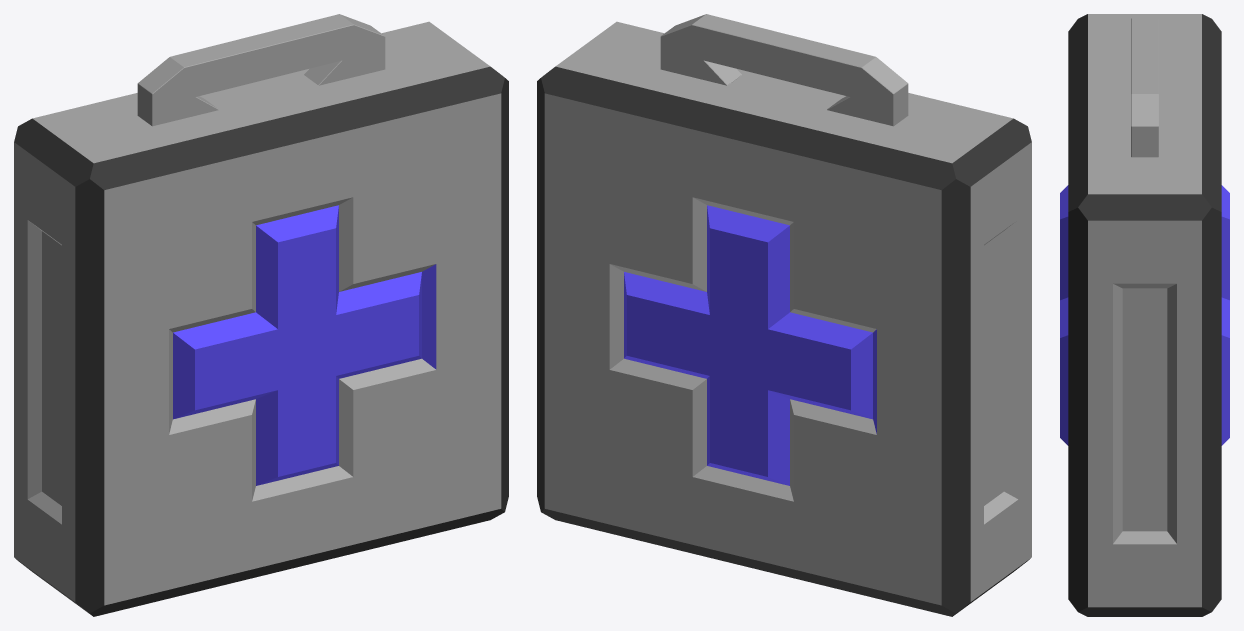
File: Apteczka.fbx
3 views of the same model, side by side, from view 1: azimuth 30°, elevation 25°; view 2: azimuth 150°, elevation 25°; view 3: azimuth 270°, elevation 25° (orthographic). The views are drawn at different scales.
Visible parts, largest first — view 1: Cube; view 2: Cube; view 3: Cube.
Boxes of the visible parts, <box> form: Cube: <box>14,14,508,616</box>; Cube: <box>537,14,1031,616</box>; Cube: <box>1060,14,1229,616</box>.
Bounding box in the file's own units: 104 × 116 × 38.
